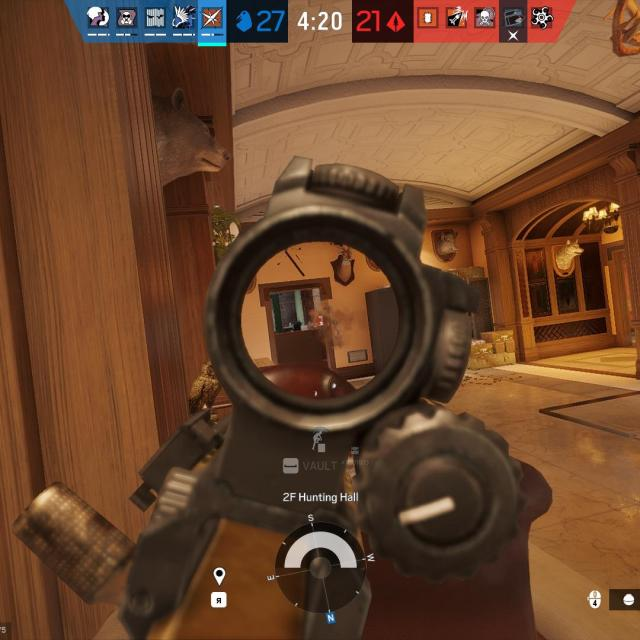Friend_label: (340, 445, 371, 467)
